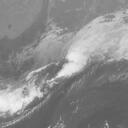cyclone: (31, 36, 90, 90)
